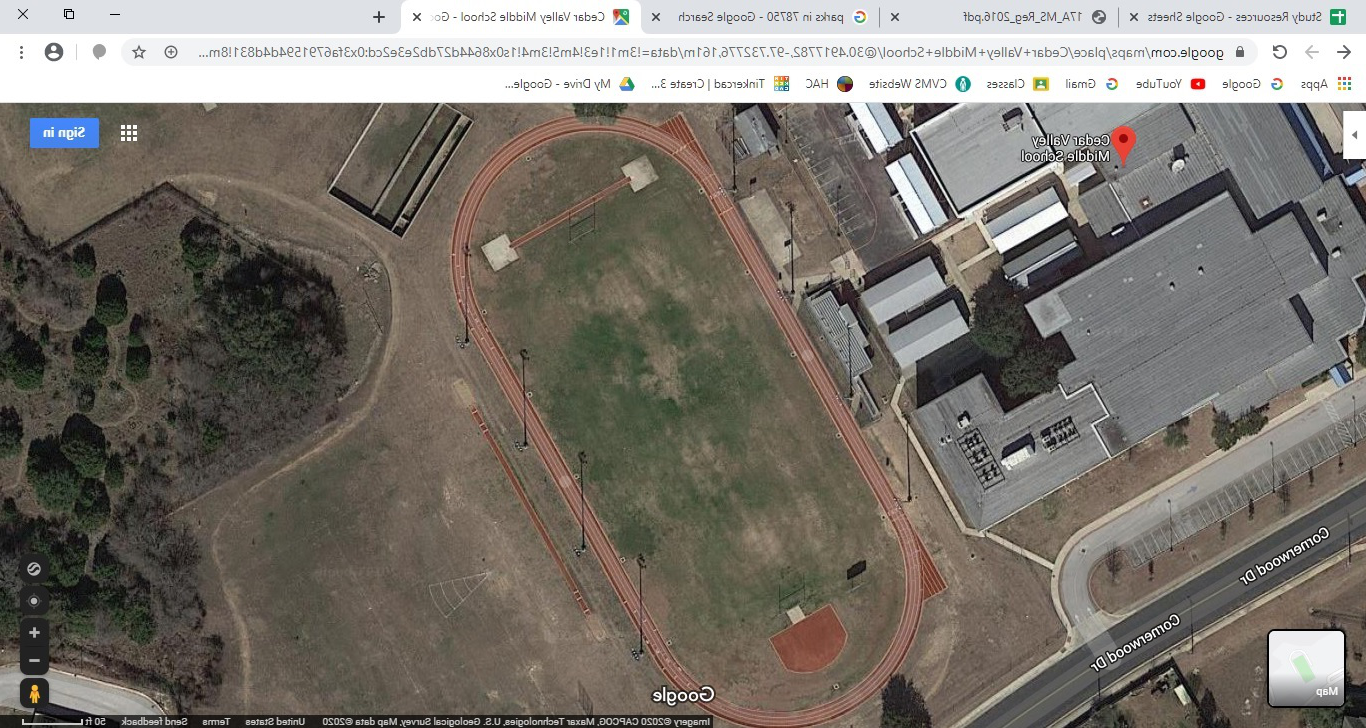soccer: (350, 118, 998, 720)
